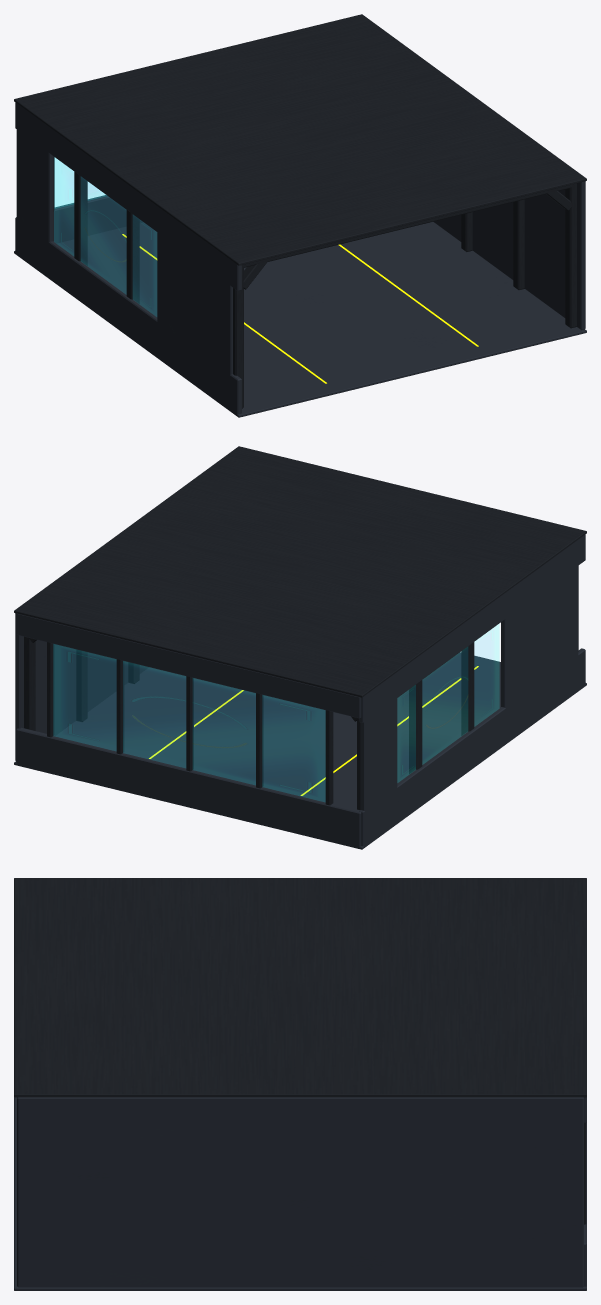
The model's file is room_07_shell.glb.
The picture shows the model from 3 angles, top to bottom: view 1: azimuth 30°, elevation 25°; view 2: azimuth 150°, elevation 25°; view 3: azimuth 270°, elevation 25°; orthographic projection. The views are drawn at different scales.
Visible parts, largest first — view 1: Room07_OctagonalTitaniumBridgeRibsAndMullions, Room07_CarbonSlateDeckAndBulkheads, Room07_TranslucentBridgeViewports, Room07_AmberDeckGuideStrips; view 2: Room07_OctagonalTitaniumBridgeRibsAndMullions, Room07_CarbonSlateDeckAndBulkheads, Room07_TranslucentBridgeViewports; view 3: Room07_OctagonalTitaniumBridgeRibsAndMullions, Room07_CarbonSlateDeckAndBulkheads.
Boxes of the visible parts, box(x1,y1,x2,y2) form: Room07_OctagonalTitaniumBridgeRibsAndMullions: box(14, 14, 586, 408); Room07_CarbonSlateDeckAndBulkheads: box(14, 102, 586, 417); Room07_TranslucentBridgeViewports: box(54, 157, 156, 316); Room07_AmberDeckGuideStrips: box(122, 234, 478, 383); Room07_OctagonalTitaniumBridgeRibsAndMullions: box(14, 446, 586, 809); Room07_CarbonSlateDeckAndBulkheads: box(14, 534, 586, 849); Room07_TranslucentBridgeViewports: box(54, 624, 498, 801); Room07_OctagonalTitaniumBridgeRibsAndMullions: box(14, 878, 586, 1224); Room07_CarbonSlateDeckAndBulkheads: box(14, 1097, 586, 1290).
Size of the model in its own units: 8.5 by 3.6 by 9.5.
6 materials, 6 textured.
